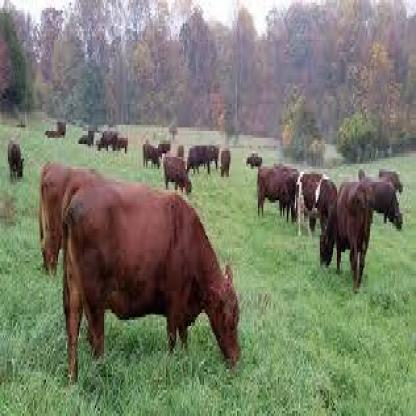cow: (65, 184, 243, 366), (40, 162, 102, 274), (320, 180, 370, 284), (253, 161, 299, 216), (360, 182, 404, 229), (300, 172, 325, 224), (160, 152, 193, 189), (184, 140, 215, 174), (10, 139, 26, 181), (144, 140, 163, 172), (380, 172, 403, 198), (219, 151, 235, 179)
